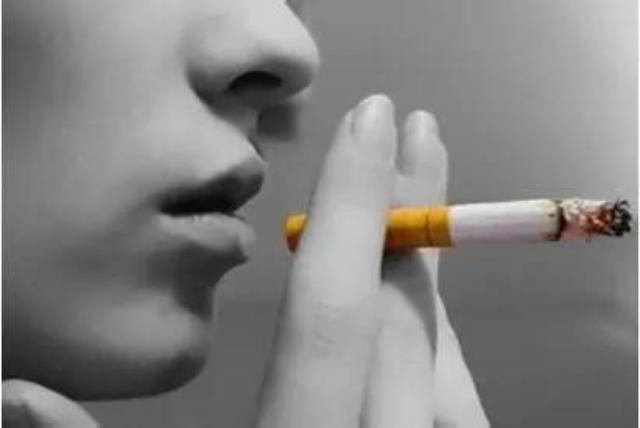Cigarette: (284, 192, 634, 249)
